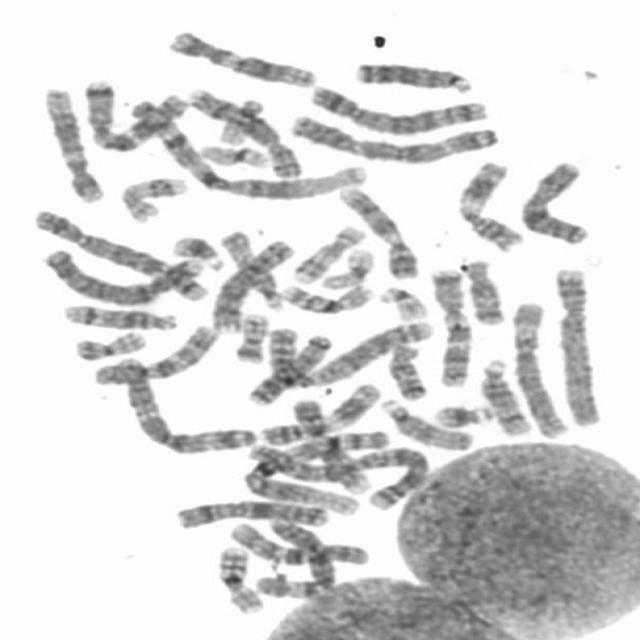A1: (124, 89, 370, 201), (239, 426, 401, 520)
A2: (236, 434, 434, 513), (247, 313, 436, 394)
A3: (105, 350, 259, 454), (279, 106, 503, 165)
B4: (23, 201, 212, 304), (33, 239, 211, 305)
B5: (301, 76, 491, 135), (547, 270, 606, 432)
C10: (84, 316, 222, 388), (221, 516, 372, 568)
C11: (252, 376, 382, 447), (448, 153, 527, 252)
C12: (157, 23, 320, 89), (34, 78, 108, 205)
C6: (502, 294, 572, 439), (244, 509, 339, 600)
C7: (75, 75, 189, 154), (420, 261, 474, 388)
C8: (177, 81, 305, 182), (204, 231, 297, 334)
C9: (285, 392, 375, 496), (330, 179, 422, 280)
D13: (239, 326, 335, 407), (346, 54, 476, 94)
D14: (472, 351, 535, 437), (53, 297, 180, 332)
D15: (213, 224, 289, 311), (373, 391, 477, 452)
E16: (208, 539, 268, 615), (270, 276, 378, 314)
E17: (285, 219, 367, 285), (110, 169, 190, 224)
E18: (454, 252, 508, 326), (379, 336, 431, 402)
F19: (313, 241, 377, 291), (192, 136, 275, 170)
F20: (65, 323, 148, 362), (225, 306, 272, 365)
G21: (163, 228, 229, 270), (426, 397, 498, 429)
G22: (212, 92, 266, 146), (371, 280, 431, 322)
X: (511, 154, 594, 246), (165, 493, 334, 531)
